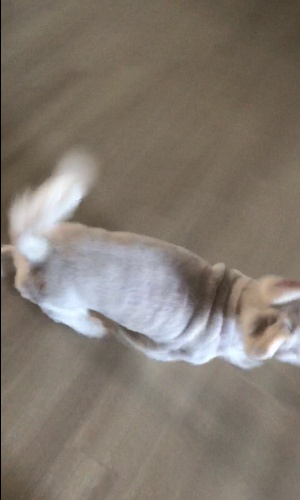ddubi: (3, 142, 300, 376)
